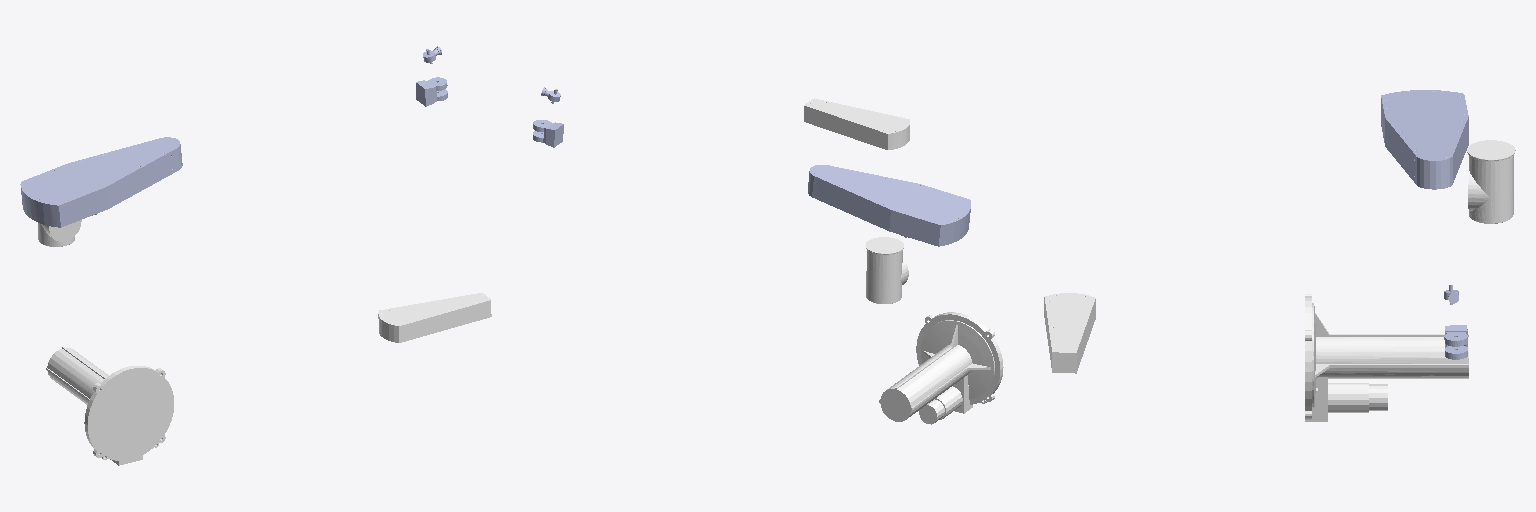
URDF robot description (puma560_description):
<?xml version="1.0" encoding="utf-8"?>
<!-- This URDF was automatically created by SolidWorks to URDF Exporter! Originally created by [author] ([email redacted]) 
     Commit Version: 1.6.0-1-g15f4949  Build Version: 1.6.7594.29634
     For more information, please see http://wiki.ros.org/sw_urdf_exporter -->
<robot
  name="puma560_description">
  <link
    name="base_link">
    <inertial>
      <origin
        xyz="-9.5392E-11 0.021962 0.19252"
        rpy="0 0 0" />
      <mass
        value="15.787" />
      <inertia
        ixx="0.55024"
        ixy="-2.8629E-11"
        ixz="-1.6745E-10"
        iyy="0.50424"
        iyz="0.022162"
        izz="0.16071" />
    </inertial>
    <visual>
      <origin
        xyz="0 0 0"
        rpy="0 0 0" />
      <geometry>
        <mesh
          filename="package://puma560_description/meshes/base_link.STL" />
      </geometry>
      <material
        name="white">
        <color
          rgba="1 1 1 1" />
      </material>
    </visual>
    <collision>
      <origin
        xyz="0 0 0"
        rpy="0 0 0" />
      <geometry>
        <mesh
          filename="package://puma560_description/meshes/base_link.STL" />
      </geometry>
    </collision>
  </link>
  <link
    name="waist_link">
    <inertial>
      <origin
        xyz="2.714E-07 -0.022505 -0.0027897"
        rpy="0 0 0" />
      <mass
        value="4.4341" />
      <inertia
        ixx="0.027328"
        ixy="-1.206E-08"
        ixz="-3.911E-09"
        iyy="0.013316"
        iyz="0.00027854"
        izz="0.027164" />
    </inertial>
    <visual>
      <origin
        xyz="0 0 0"
        rpy="0 0 0" />
      <geometry>
        <mesh
          filename="package://puma560_description/meshes/waist_link.STL" />
      </geometry>
      <material
        name="white">
        <color
          rgba="1 1 1 1" />
      </material>
    </visual>
    <collision>
      <origin
        xyz="0 0 0"
        rpy="0 0 0" />
      <geometry>
        <mesh
          filename="package://puma560_description/meshes/waist_link.STL" />
      </geometry>
    </collision>
  </link>
  <joint
    name="base_waist_joint"
    type="revolute">
    <origin
      xyz="0 0 0.62357"
      rpy="0 0 -0.018511" />
    <parent
      link="base_link" />
    <child
      link="waist_link" />
    <axis
      xyz="0 0 1" />
    <limit
      lower="-2.3562"
      upper="2.3562"
      effort="50"
      velocity="82" />
  </joint>
  <link
    name="shoulder_link">
    <inertial>
      <origin
        xyz="0.082737 0.0031596 -4.6776E-05"
        rpy="0 0 0" />
      <mass
        value="16.847" />
      <inertia
        ixx="0.09723"
        ixy="0.0043475"
        ixz="-7.8857E-06"
        iyy="0.65976"
        iyz="4.8383E-05"
        izz="0.59657" />
    </inertial>
    <visual>
      <origin
        xyz="0 0 0"
        rpy="0 0 0" />
      <geometry>
        <mesh
          filename="package://puma560_description/meshes/shoulder_link.STL" />
      </geometry>
      <material
        name="gris01">
        <color
          rgba="0.79216 0.81961 0.93333 1" />
      </material>
    </visual>
    <collision>
      <origin
        xyz="0 0 0"
        rpy="0 0 0" />
      <geometry>
        <mesh
          filename="package://puma560_description/meshes/shoulder_link.STL" />
      </geometry>
    </collision>
  </link>
  <joint
    name="waist_shoulder_joint"
    type="revolute">
    <origin
      xyz="0 -0.21844 0"
      rpy="0 -0.083022 0" />
    <parent
      link="waist_link" />
    <child
      link="shoulder_link" />
    <axis
      xyz="0 1 0" />
    <limit
      lower="-2.3562"
      upper="2.3562"
      effort="50"
      velocity="74" />
  </joint>
  <link
    name="elbow_link">
    <inertial>
      <origin
        xyz="0.088774 1.5623E-06 -1.1788E-06"
        rpy="0 0 0" />
      <mass
        value="4.6025" />
      <inertia
        ixx="0.0091916"
        ixy="2.2739E-06"
        ixz="4.837E-07"
        iyy="0.087355"
        iyz="3.6529E-07"
        izz="0.082615" />
    </inertial>
    <visual>
      <origin
        xyz="0 0 0"
        rpy="0 0 0" />
      <geometry>
        <mesh
          filename="package://puma560_description/meshes/elbow_link.STL" />
      </geometry>
      <material
        name="white">
        <color
          rgba="1 1 1 1" />
      </material>
    </visual>
    <collision>
      <origin
        xyz="0 0 0"
        rpy="0 0 0" />
      <geometry>
        <mesh
          filename="package://puma560_description/meshes/elbow_link.STL" />
      </geometry>
    </collision>
  </link>
  <joint
    name="shoulder_elbow_link"
    type="revolute">
    <origin
      xyz="0.4318 0.0889 0"
      rpy="3.1416 0.057886 0" />
    <parent
      link="shoulder_link" />
    <child
      link="elbow_link" />
    <axis
      xyz="0 -1 0" />
    <limit
      lower="-2.3562"
      upper="2.3562"
      effort="20"
      velocity="122" />
  </joint>
  <link
    name="wrist_roll_link">
    <inertial>
      <origin
        xyz="-0.032409 -1.3878E-17 0"
        rpy="0 0 0" />
      <mass
        value="0.47079" />
      <inertia
        ixx="0.00046683"
        ixy="-6.0139E-20"
        ixz="1.0912E-19"
        iyy="0.00073772"
        iyz="-3.134E-20"
        izz="0.00077289" />
    </inertial>
    <visual>
      <origin
        xyz="0 0 0"
        rpy="0 0 0" />
      <geometry>
        <mesh
          filename="package://puma560_description/meshes/wrist_roll_link.STL" />
      </geometry>
      <material
        name="gris2">
        <color
          rgba="0.79216 0.81961 0.93333 1" />
      </material>
    </visual>
    <collision>
      <origin
        xyz="0 0 0"
        rpy="0 0 0" />
      <geometry>
        <mesh
          filename="package://puma560_description/meshes/wrist_roll_link.STL" />
      </geometry>
    </collision>
  </link>
  <joint
    name="elbow_wrist_roll_joint"
    type="revolute">
    <origin
      xyz="0.43209 0 0"
      rpy="-3.1305 0 0" />
    <parent
      link="elbow_link" />
    <child
      link="wrist_roll_link" />
    <axis
      xyz="1 0 0" />
    <limit
      lower="-2.3562"
      upper="2.3562"
      effort="20"
      velocity="228" />
  </joint>
  <link
    name="wrist_bend_link">
    <inertial>
      <origin
        xyz="0.010974 -6.7753E-10 1.7546E-09"
        rpy="0 0 0" />
      <mass
        value="0.077406" />
      <inertia
        ixx="1.6966E-05"
        ixy="6.3394E-13"
        ixz="-3.0414E-12"
        iyy="4.5414E-05"
        iyz="1.1518E-11"
        izz="4.3032E-05" />
    </inertial>
    <visual>
      <origin
        xyz="0 0 0"
        rpy="0 0 0" />
      <geometry>
        <mesh
          filename="package://puma560_description/meshes/wrist_bend_link.STL" />
      </geometry>
      <material
        name="gris2">
        <color
          rgba="0.79216 0.81961 0.93333 1" />
      </material>
    </visual>
    <collision>
      <origin
        xyz="0 0 0"
        rpy="0 0 0" />
      <geometry>
        <mesh
          filename="package://puma560_description/meshes/wrist_bend_link.STL" />
      </geometry>
    </collision>
  </link>
  <joint
    name="wrist_roll_bend_joint"
    type="revolute">
    <origin
      xyz="0 0 0"
      rpy="0 -0.19722 0" />
    <parent
      link="wrist_roll_link" />
    <child
      link="wrist_bend_link" />
    <axis
      xyz="0 -1 0" />
    <limit
      lower="-2.3562"
      upper="2.3562"
      effort="15"
      velocity="120" />
  </joint>
</robot>

--- What the picture shows (computed from the rendered views, not written in the file) ---
3 views of the same robot in one strip: view 1: azimuth 30°, elevation 25°; view 2: azimuth 150°, elevation 25°; view 3: azimuth 270°, elevation 25° (orthographic).
Model puma560_description with 6 links and 5 joints (5 revolute), rooted at base_link, posed all joints at 0.
Links seen in each view (by area): view 1: base_link, shoulder_link, elbow_link, waist_link, wrist_roll_link; view 2: base_link, shoulder_link, elbow_link, waist_link, wrist_roll_link; view 3: base_link, shoulder_link, waist_link, elbow_link, wrist_roll_link.
Link boxes in pixels (x1,y1,x2,y2): base_link: (46,347,173,465); shoulder_link: (20,137,182,227); elbow_link: (378,293,491,342); waist_link: (38,220,81,246); wrist_roll_link: (416,77,447,106); base_link: (879,312,1003,424); shoulder_link: (808,165,970,246); elbow_link: (804,98,909,149); waist_link: (865,237,908,303); wrist_roll_link: (533,120,563,147); base_link: (1305,294,1468,421); shoulder_link: (1381,90,1468,189); waist_link: (1467,140,1515,223); elbow_link: (1044,293,1095,373); wrist_roll_link: (1444,325,1467,359).
Bounding box of the posed robot: 2.02 × 1.58 × 1.27 m (x, y, z).
6 mesh visuals loaded from 6 distinct referenced files (6 binary STL).